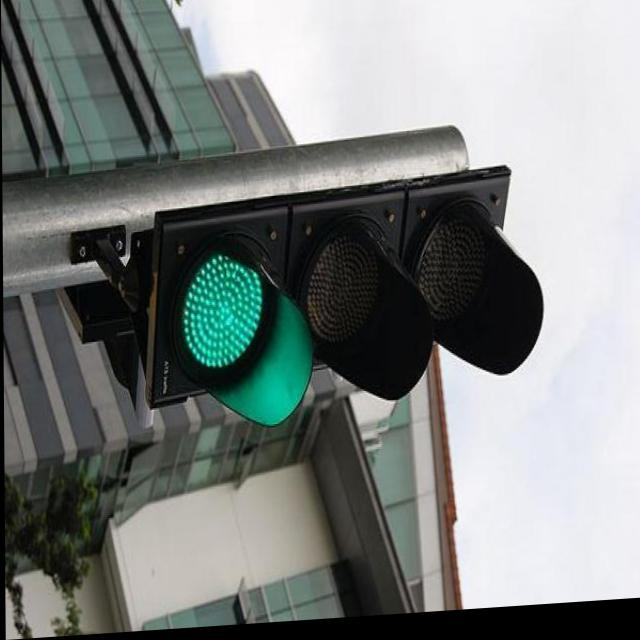green light: (142, 172, 547, 412)
